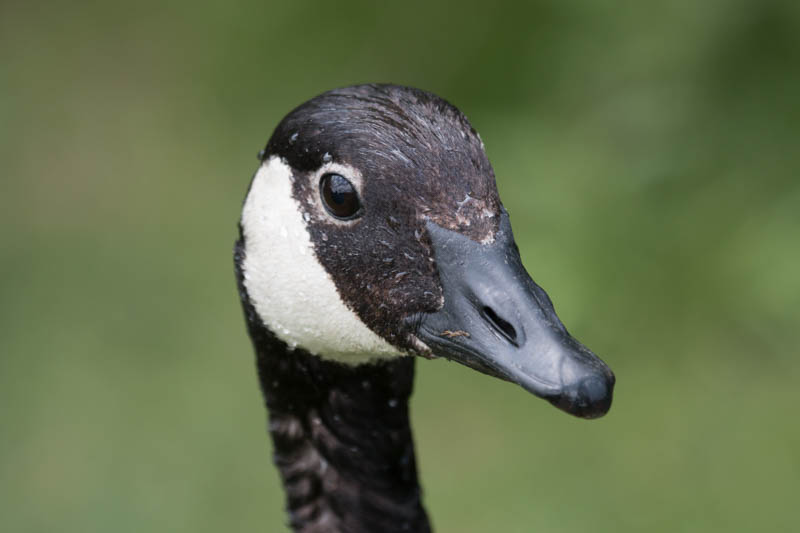goose-head: (234, 81, 617, 419)
